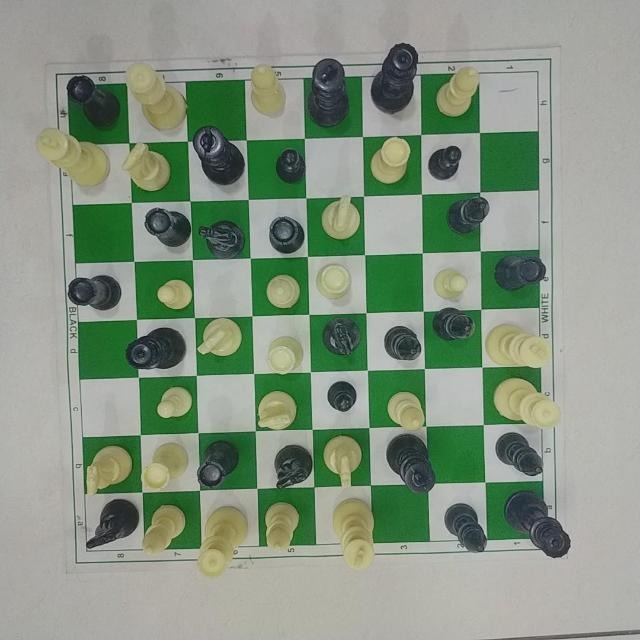black-bishop: (444, 500, 492, 558), (493, 429, 547, 479), (445, 192, 493, 240), (432, 306, 482, 345), (380, 321, 424, 364)
black-king: (303, 53, 355, 131), (384, 433, 439, 495), (192, 125, 246, 187)
black-knight: (84, 498, 139, 550), (198, 217, 249, 262), (316, 312, 364, 359), (270, 441, 316, 490)
black-pawn: (426, 140, 466, 183), (272, 144, 311, 185), (322, 377, 361, 412)
black-queen: (505, 485, 575, 560), (370, 35, 421, 115), (122, 327, 192, 373)
black-rook: (64, 74, 121, 130), (65, 270, 128, 313), (197, 439, 246, 490), (494, 252, 550, 294), (143, 202, 193, 249), (264, 208, 308, 257)
white-bishop: (432, 62, 483, 118), (261, 497, 306, 558), (142, 505, 190, 558), (380, 385, 430, 433), (245, 58, 287, 115), (260, 264, 305, 313)
white-king: (36, 126, 114, 190), (330, 497, 382, 575), (488, 319, 560, 375)
white-knight: (71, 442, 136, 496), (119, 143, 178, 193), (322, 432, 363, 490), (318, 193, 367, 240), (251, 383, 300, 430), (198, 314, 248, 359)
white-pawn: (154, 380, 201, 427), (154, 272, 196, 312), (431, 265, 473, 303)
white-queen: (126, 61, 188, 135), (195, 505, 253, 580), (493, 375, 565, 434)
white-rook: (141, 442, 193, 494), (370, 135, 414, 190), (264, 331, 308, 379), (315, 260, 355, 301)
